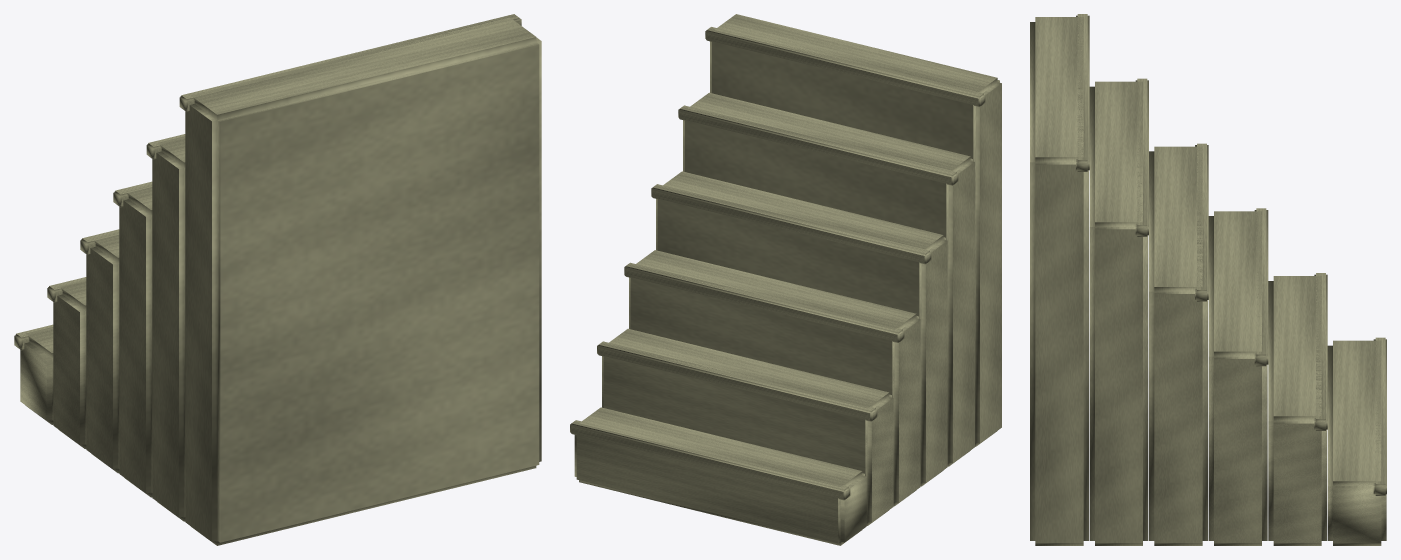
File: wooden-stair-3.fbx
3 views of the same model, side by side, from view 1: azimuth 30°, elevation 25°; view 2: azimuth 150°, elevation 25°; view 3: azimuth 270°, elevation 25° (orthographic). The views are drawn at different scales.
Parts seen in each view (by area): view 1: wooden-stair-3__Geometry; view 2: wooden-stair-3__Geometry; view 3: wooden-stair-3__Geometry.
Boxes of the visible parts, x1,y1,x2,y2 form: wooden-stair-3__Geometry: (14, 14, 541, 545); wooden-stair-3__Geometry: (570, 14, 1001, 545); wooden-stair-3__Geometry: (1030, 14, 1386, 545).
Bounding box in the file's own units: 0.98 × 1.2 × 0.999.
1 material, 1 textured.
